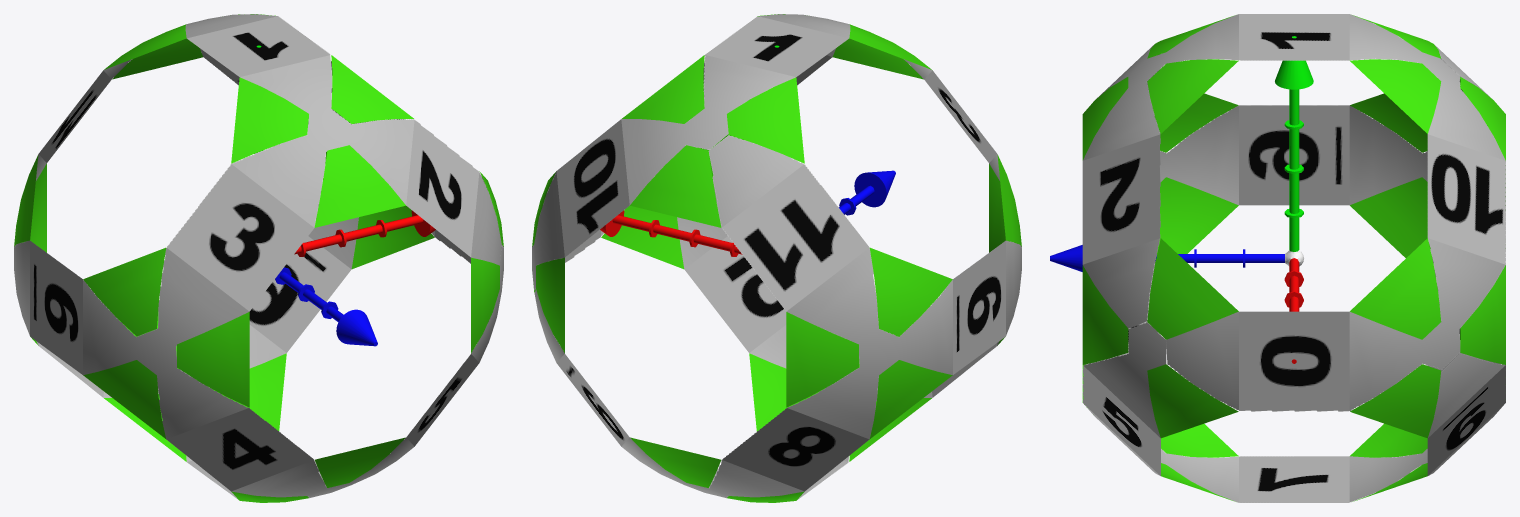
Rendered from catom3Drepere2.obj.
3 views of the same model, side by side, from view 1: azimuth 30°, elevation 25°; view 2: azimuth 150°, elevation 25°; view 3: azimuth 270°, elevation 25° (orthographic). The views are drawn at different scales.
Parts seen in each view (by area): view 1: catom_creux; view 2: catom_creux; view 3: catom_creux.
Part boxes in pixels (box(x1,y1,x2,y2)): catom_creux: box(14, 14, 503, 502); catom_creux: box(532, 14, 1021, 502); catom_creux: box(1050, 14, 1505, 502).
Bounding box in the file's own units: 10 × 10 × 9.33.
